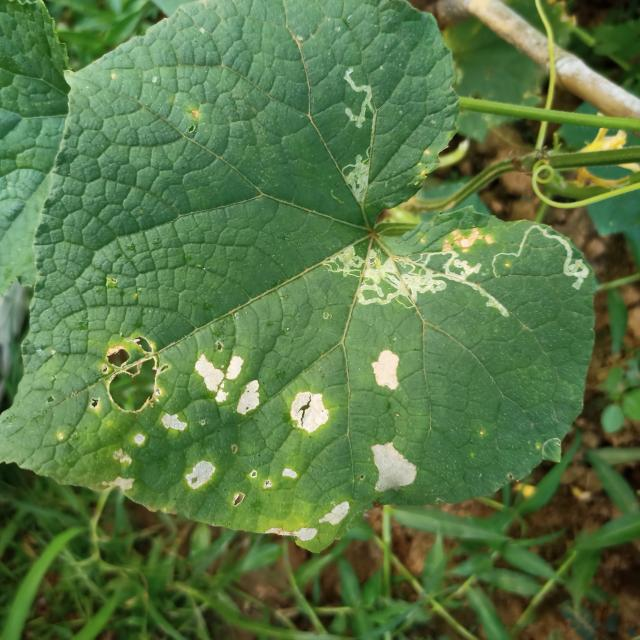disease_cucumber: (66, 326, 353, 547), (361, 342, 424, 499)
